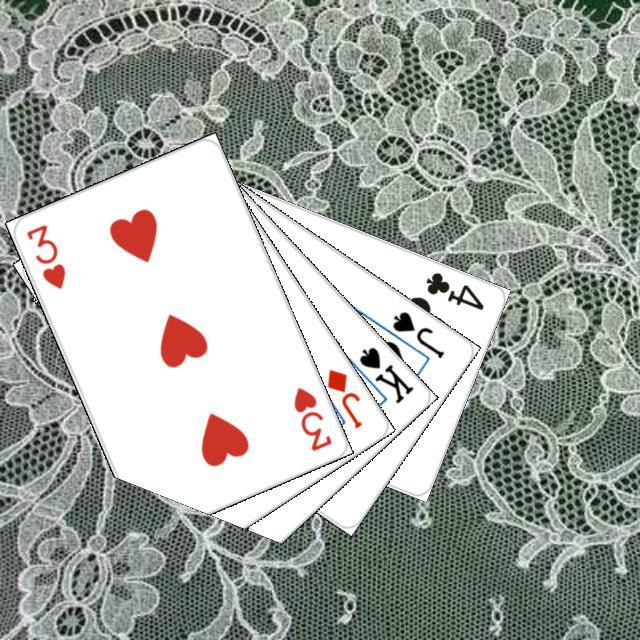3h: (21, 219, 68, 291), (288, 382, 334, 453)
4c: (420, 267, 486, 312)
Jd: (321, 363, 364, 431)
Js: (387, 306, 446, 360)
Ks: (354, 342, 415, 406)
